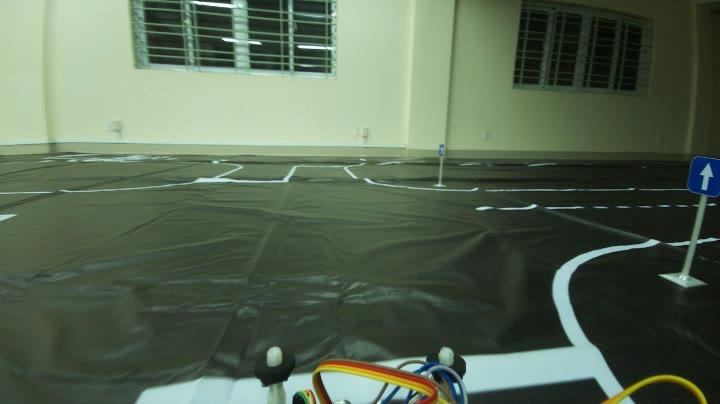onewayroad: (691, 158, 718, 194), (434, 139, 452, 161)
